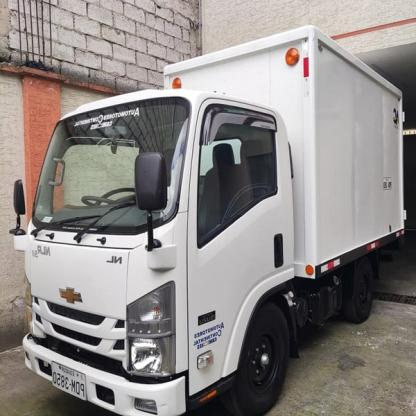Placa: (46, 360, 86, 404)
